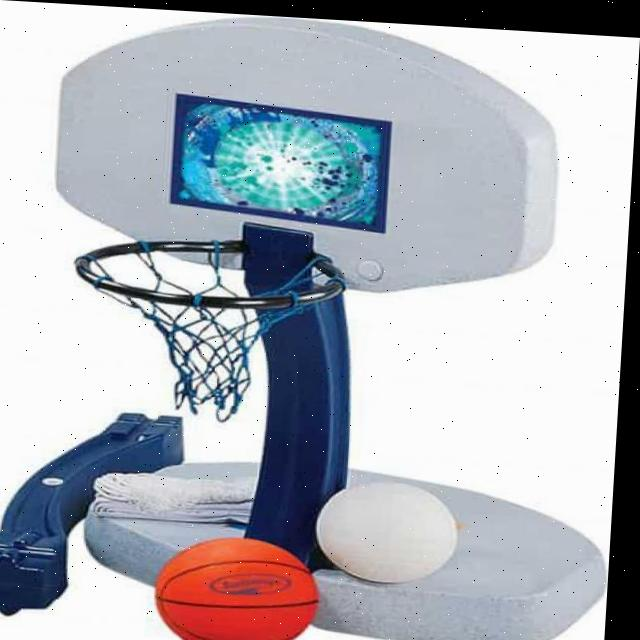Basketball: (153, 533, 323, 640), (314, 479, 460, 586)
hoop: (67, 231, 351, 429)
